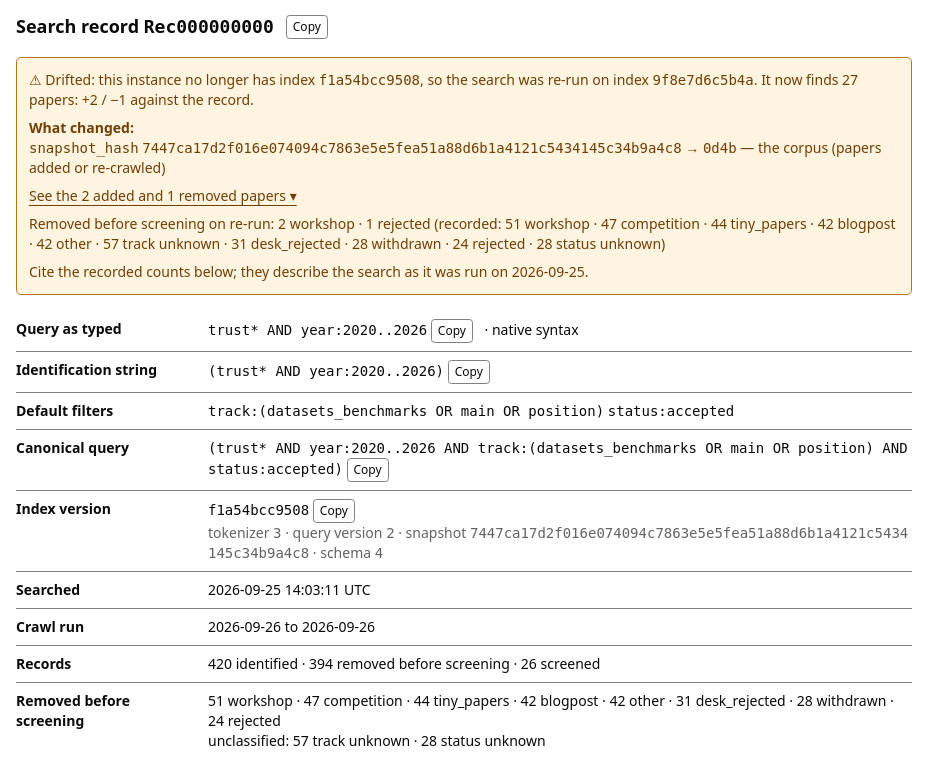
Scenario: drifted (design R2, R5) › pages the diff on request: added, removed, and an id the index doesn't hold
Click the button "See the 2 added and 1 removed papers ▾" at (163, 196), box [29,186,297,206]
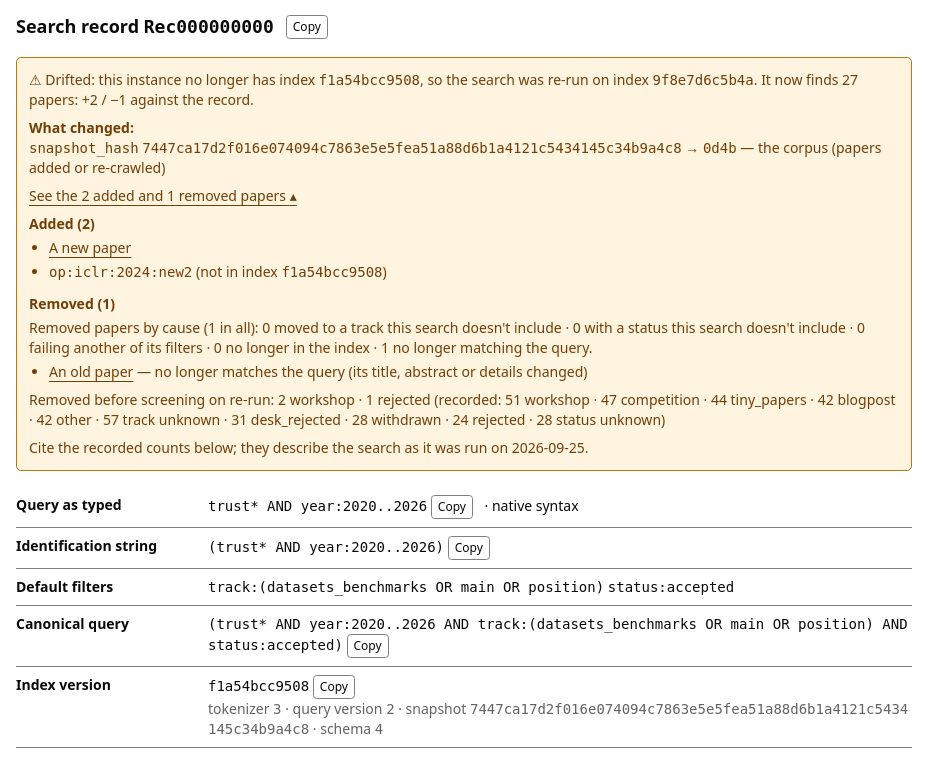
Check: the heading "Added (2)" is shown, box [29,214,95,233]
Check: the heading "Removed (1)" is shown, box [29,294,115,313]
Check: the list item "op:iclr:2024:new2 (not in index f1a54bcc9508)" is shown, box [49,262,387,281]
